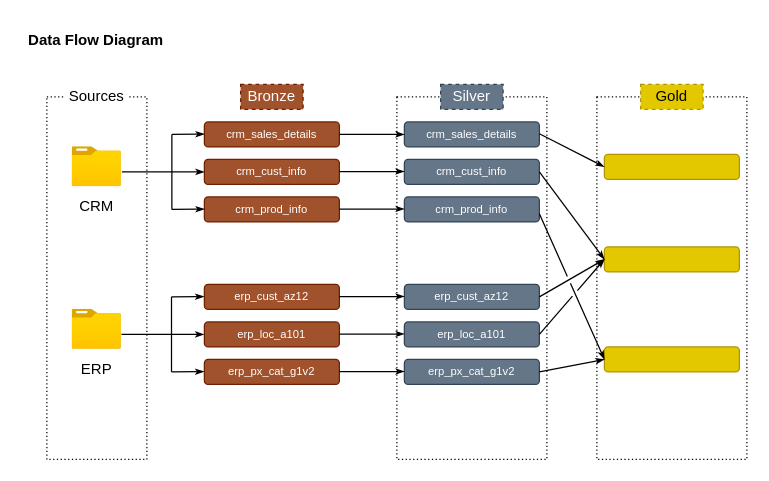
The diagram is 769 pixels wide and 481 high, and some of its shapes have lost their labels. The shapes that lost their labels are listed below. From the top down, each one's centre as x and y in pixels, then its label:
At point (671, 166): "fact_sales".
At point (671, 259): "dim_customers".
At point (671, 359): "dim_products".
